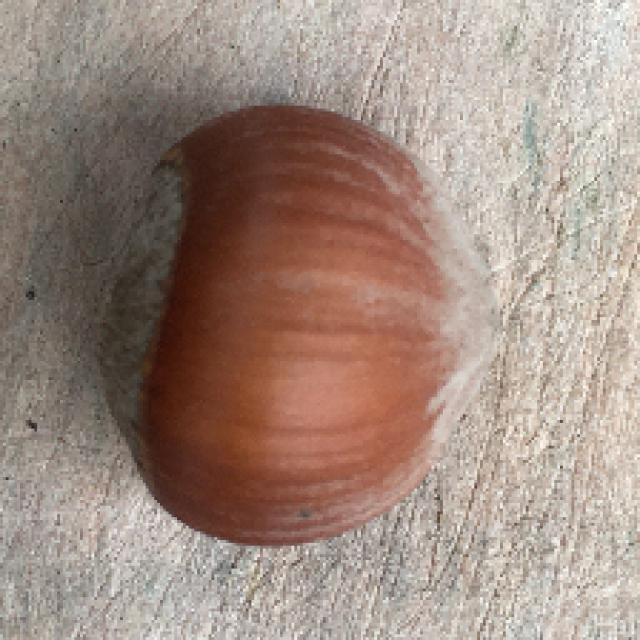QualityHazelnut: (88, 108, 510, 549)
